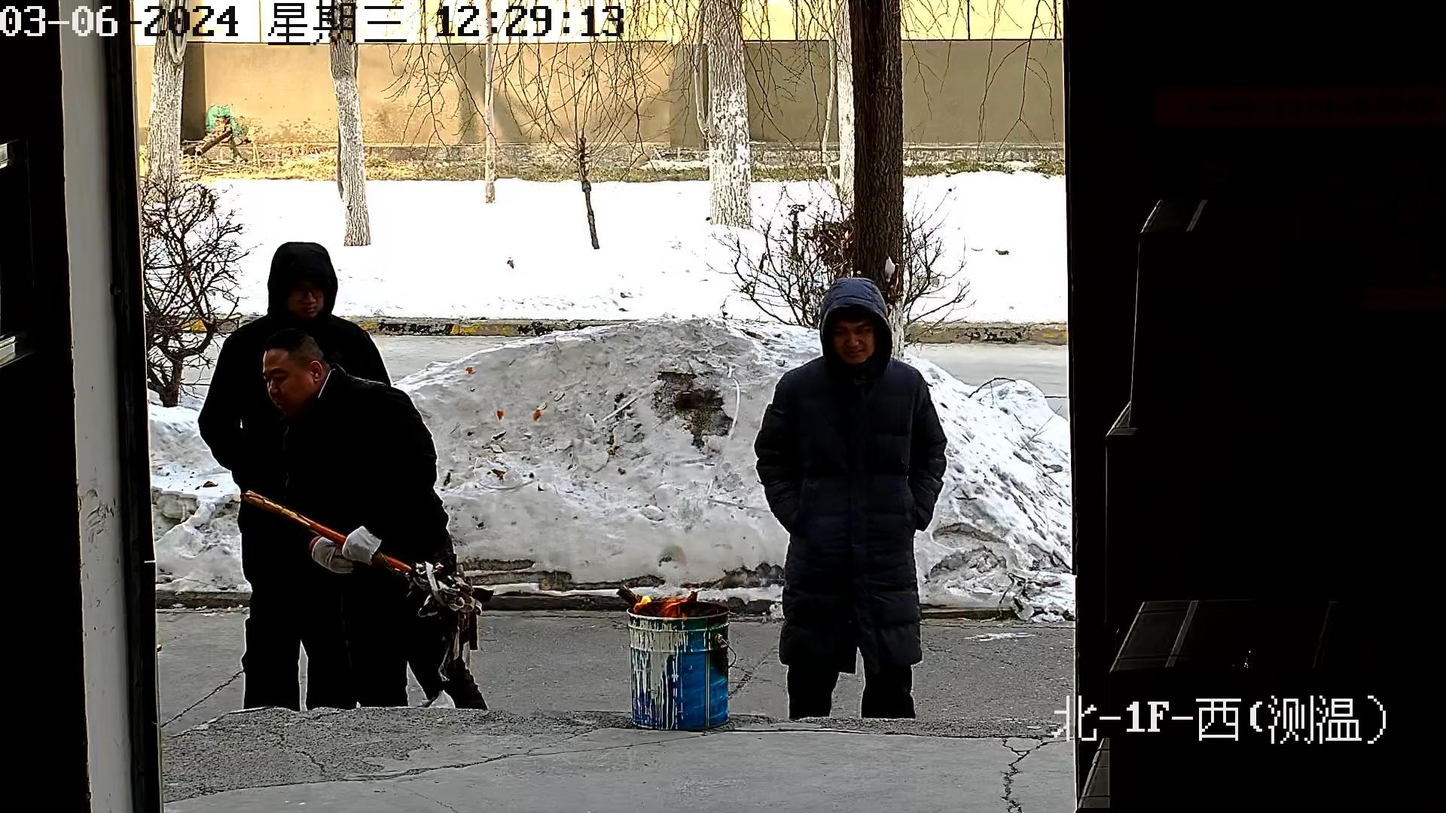fire: (632, 592, 695, 617)
